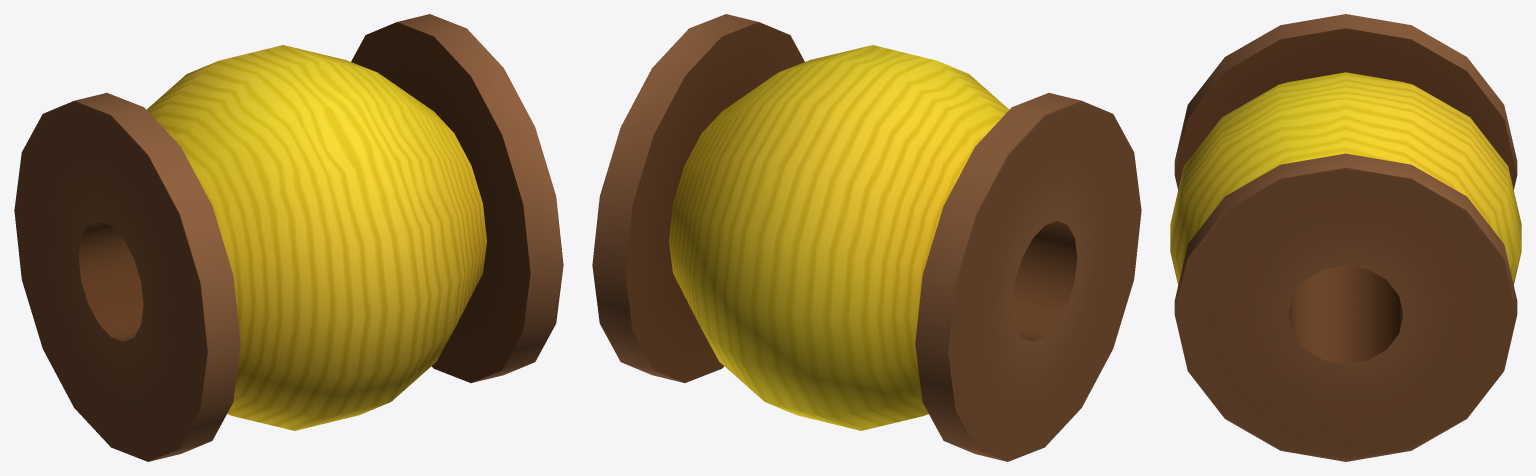
File: yarn.FBX
The picture shows the model from 3 angles, left to right: view 1: azimuth 30°, elevation 25°; view 2: azimuth 150°, elevation 25°; view 3: azimuth 270°, elevation 25°; orthographic projection. The views are drawn at different scales.
Parts seen in each view (by area): view 1: yarn; view 2: yarn; view 3: yarn.
Part boxes in pixels (left/top/right/bottom): yarn: left=14, top=14, right=563, bottom=461; yarn: left=592, top=14, right=1141, bottom=461; yarn: left=1170, top=14, right=1521, bottom=461.
Bounding box in the file's own units: 39.46 × 36.11 × 38.1.
